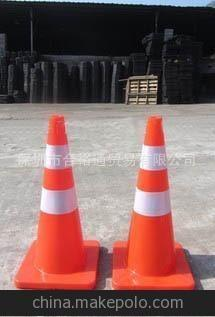cone_barrel: (13, 112, 92, 284), (113, 117, 187, 288)
